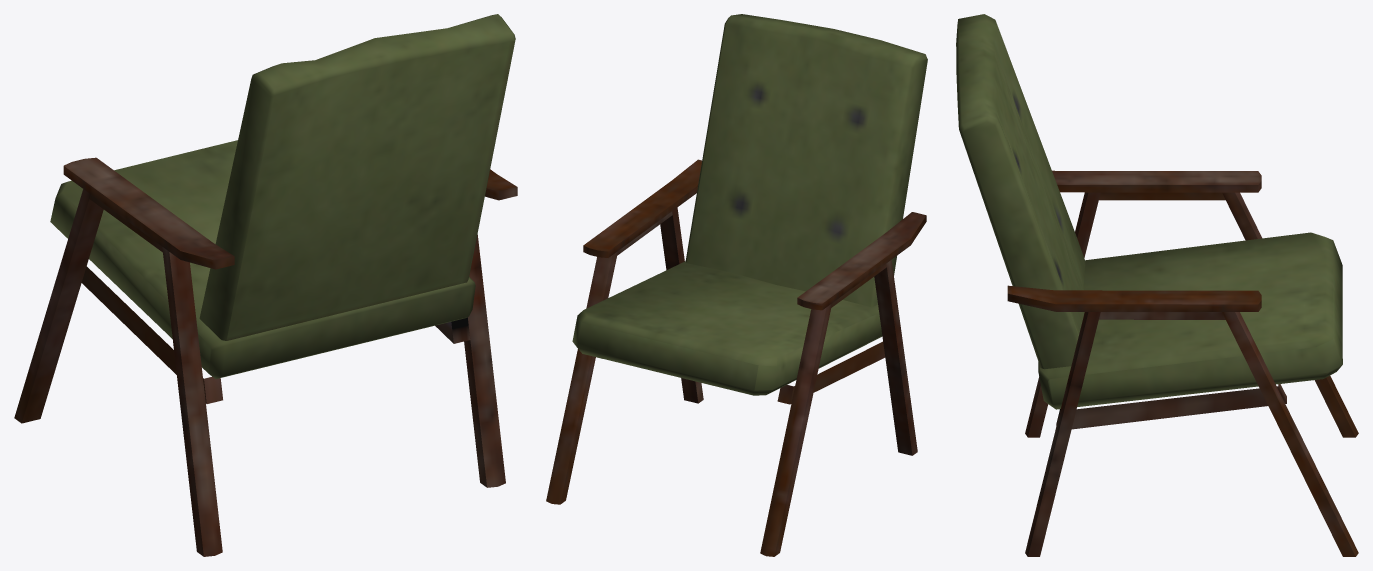
File: soviet_interior_props_residential_commercial.glb
3 renders of one model, left to right at view 1: azimuth 30°, elevation 25°; view 2: azimuth 150°, elevation 25°; view 3: azimuth 270°, elevation 25°, orthographic. The views are drawn at different scales.
Visible parts, largest first — view 1: Armchair01a_LOD0; view 2: Armchair01a_LOD0; view 3: Armchair01a_LOD0.
Boxes of the visible parts, x1,y1,x2,y2 form: Armchair01a_LOD0: [14, 14, 517, 556]; Armchair01a_LOD0: [546, 14, 927, 556]; Armchair01a_LOD0: [956, 14, 1358, 556].
Size of the model in its own units: 0.7178 by 1.09 by 0.9156.
Materials: 1 (1 with a texture image).
